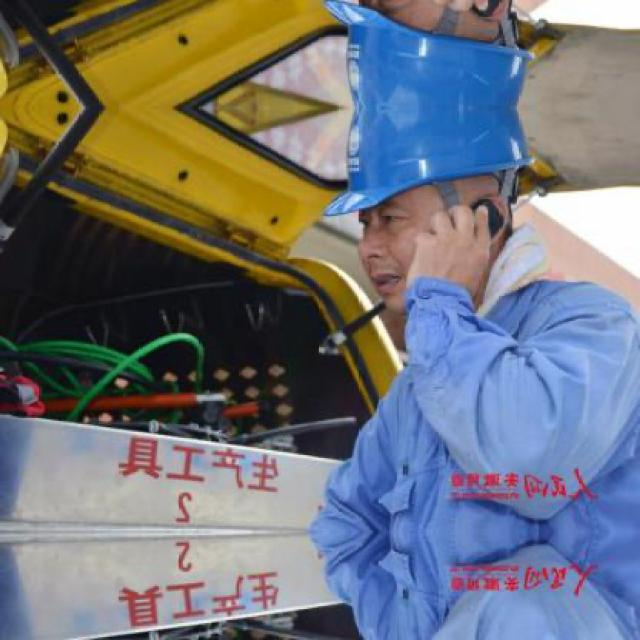con casco: (334, 110, 526, 344)
